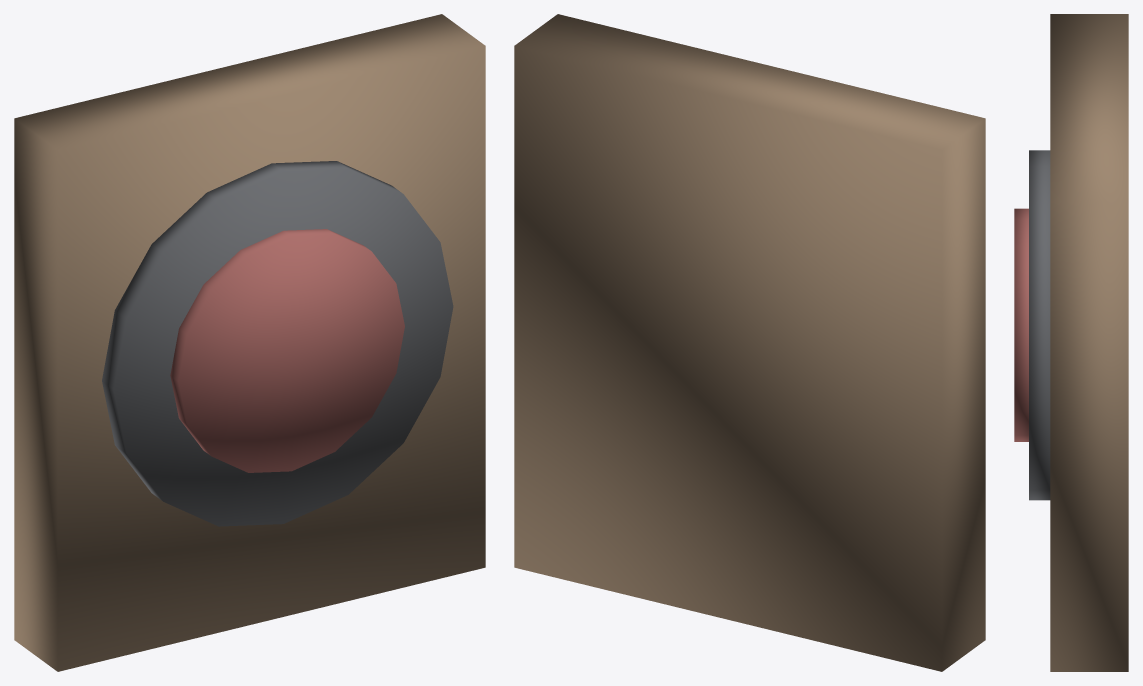
File: dartboard_cabinet__reinforced.glb
The picture shows the model from 3 angles, left to right: view 1: azimuth 30°, elevation 25°; view 2: azimuth 150°, elevation 25°; view 3: azimuth 270°, elevation 25°; orthographic projection. The views are drawn at different scales.
Parts seen in each view (by area): view 1: world; view 2: world; view 3: world.
Part boxes in pixels (x1,y1,x2,y2): world: (14, 14, 485, 671); world: (514, 14, 985, 671); world: (1014, 14, 1128, 671).
Size of the model in its own units: 0.7004 by 0.816 by 0.1803.
